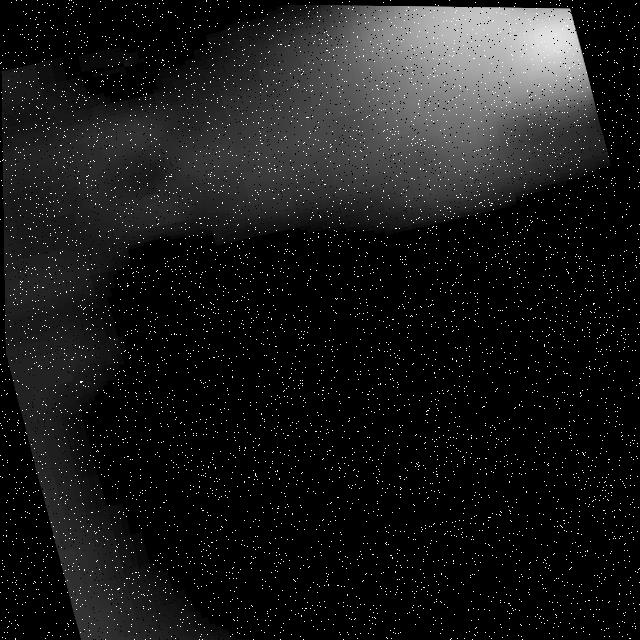person: (91, 2, 612, 276)
